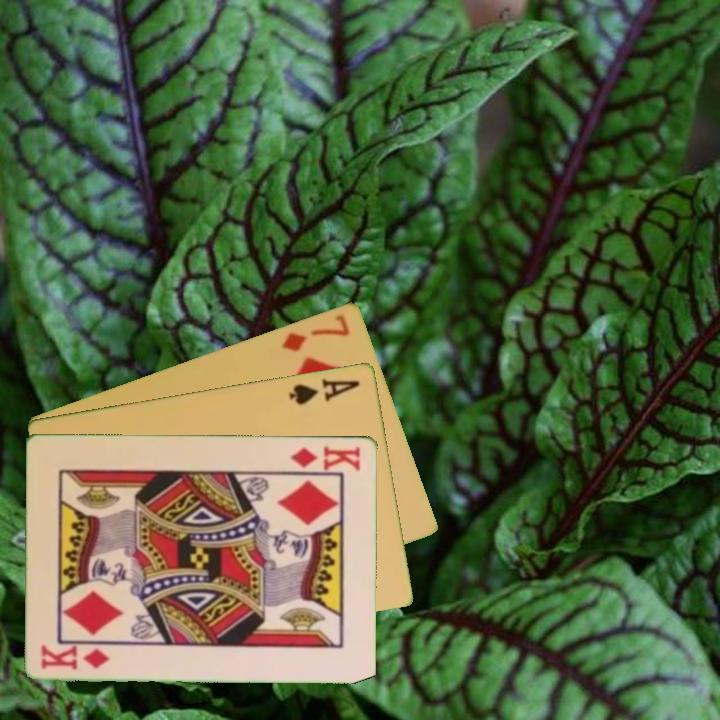7d: (278, 310, 353, 354)
As: (286, 374, 364, 407)
Kd: (287, 442, 363, 474), (38, 642, 113, 673)
